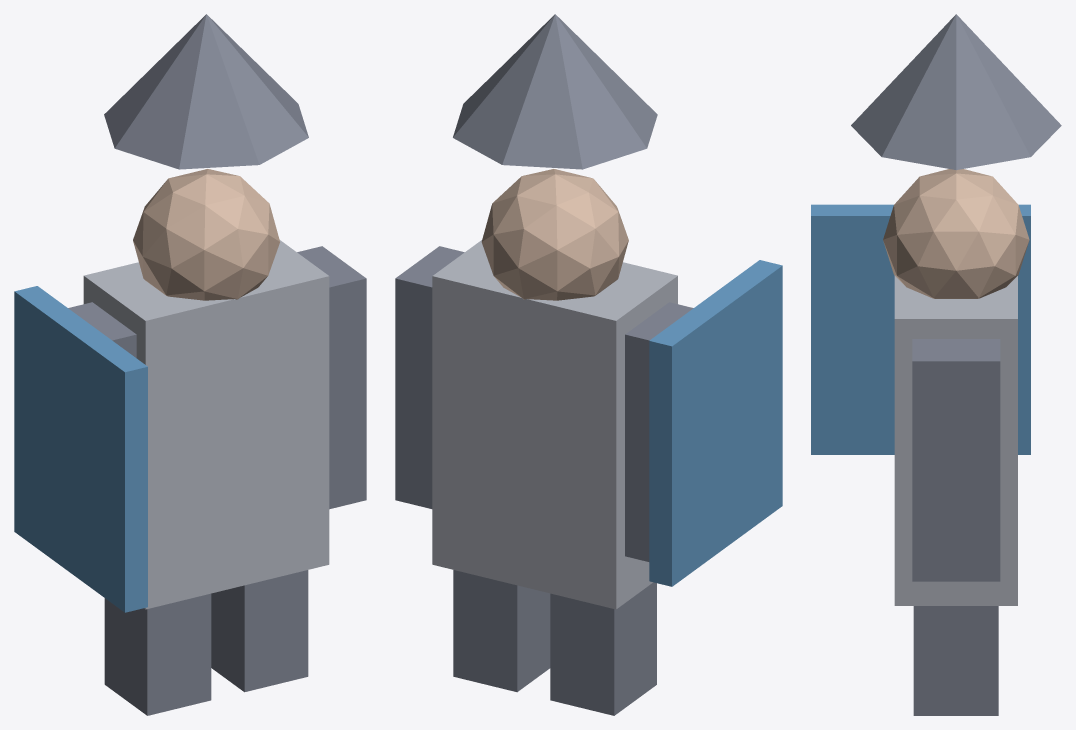
Rendered from npc_guardia.glb.
3 views of the same model, side by side, from view 1: azimuth 30°, elevation 25°; view 2: azimuth 150°, elevation 25°; view 3: azimuth 270°, elevation 25° (orthographic).
Parts seen in each view (by area): view 1: part_001, part_007, part_006, part_000, part_004, part_005, part_003, part_002; view 2: part_001, part_007, part_006, part_000, part_004, part_005, part_003, part_002; view 3: part_007, part_003, part_006, part_001, part_000, part_005.
Boxes of the visible parts, bbox=[...] form: part_001: bbox=[83, 240, 329, 609]; part_007: bbox=[14, 286, 147, 612]; part_006: bbox=[104, 14, 308, 169]; part_000: bbox=[133, 169, 279, 300]; part_004: bbox=[104, 593, 211, 715]; part_005: bbox=[211, 570, 308, 692]; part_003: bbox=[297, 246, 366, 509]; part_002: bbox=[68, 302, 136, 357]; part_001: bbox=[432, 240, 677, 609]; part_007: bbox=[649, 260, 782, 586]; part_006: bbox=[453, 14, 657, 169]; part_000: bbox=[481, 169, 628, 300]; part_004: bbox=[550, 582, 656, 715]; part_005: bbox=[453, 570, 550, 692]; part_003: bbox=[395, 246, 464, 508]; part_002: bbox=[625, 302, 693, 561]; part_007: bbox=[811, 204, 1030, 454]; part_003: bbox=[912, 339, 1000, 581]; part_006: bbox=[851, 14, 1061, 170]; part_001: bbox=[894, 276, 1017, 605]; part_000: bbox=[883, 169, 1029, 298]; part_005: bbox=[913, 606, 998, 715].
Bounding box in the file's own units: 1.15 × 2.5 × 0.855.
